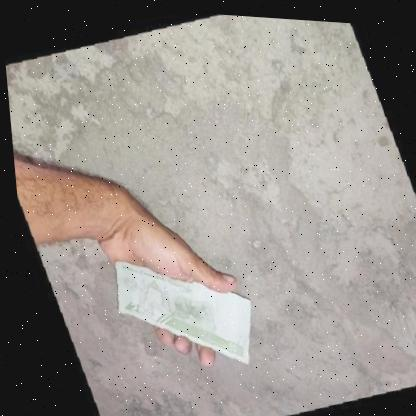fifty-back-vef: (95, 229, 266, 389)
